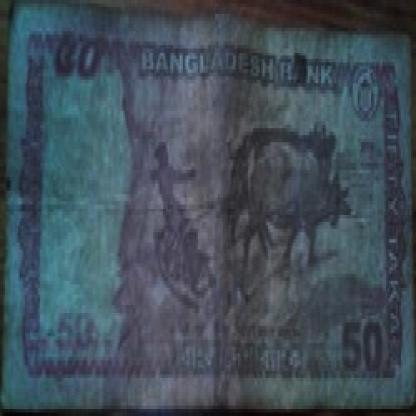Fifty taka: (334, 309, 401, 388), (52, 24, 103, 90)
